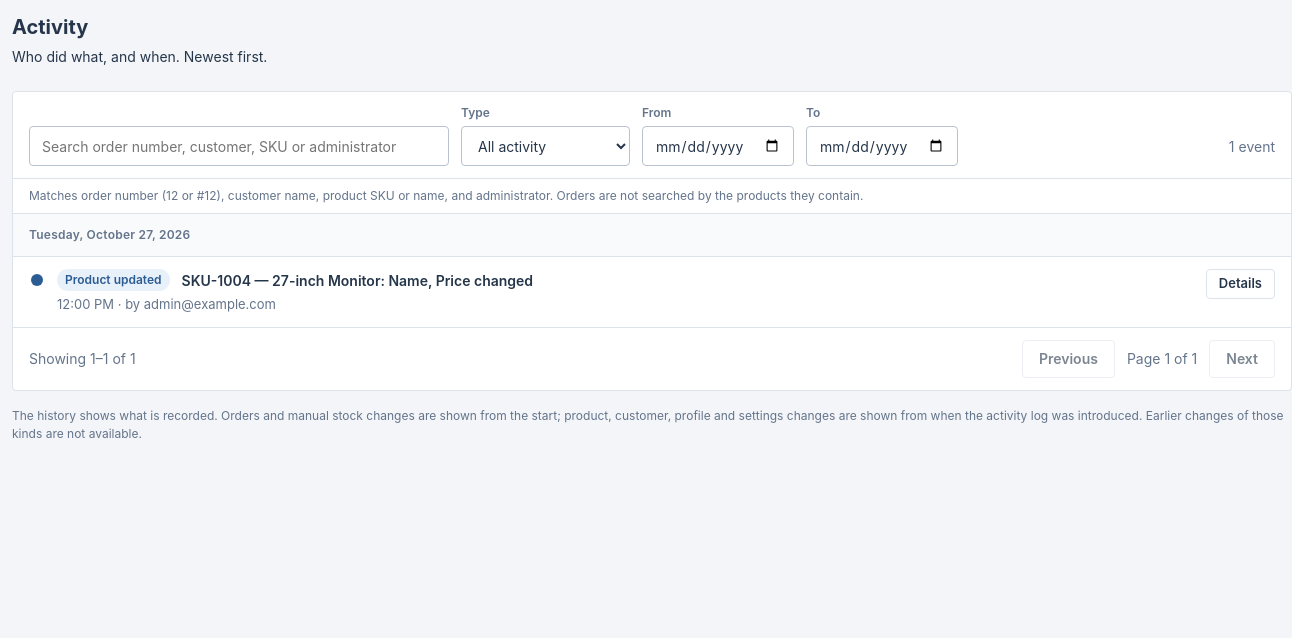
Test: event details › a product edit names the fields, shows the price change, and says SKU and name text is not kept
Click the button with aria-label "Show details". click: (1240, 284)
box: [1206,269,1275,299]
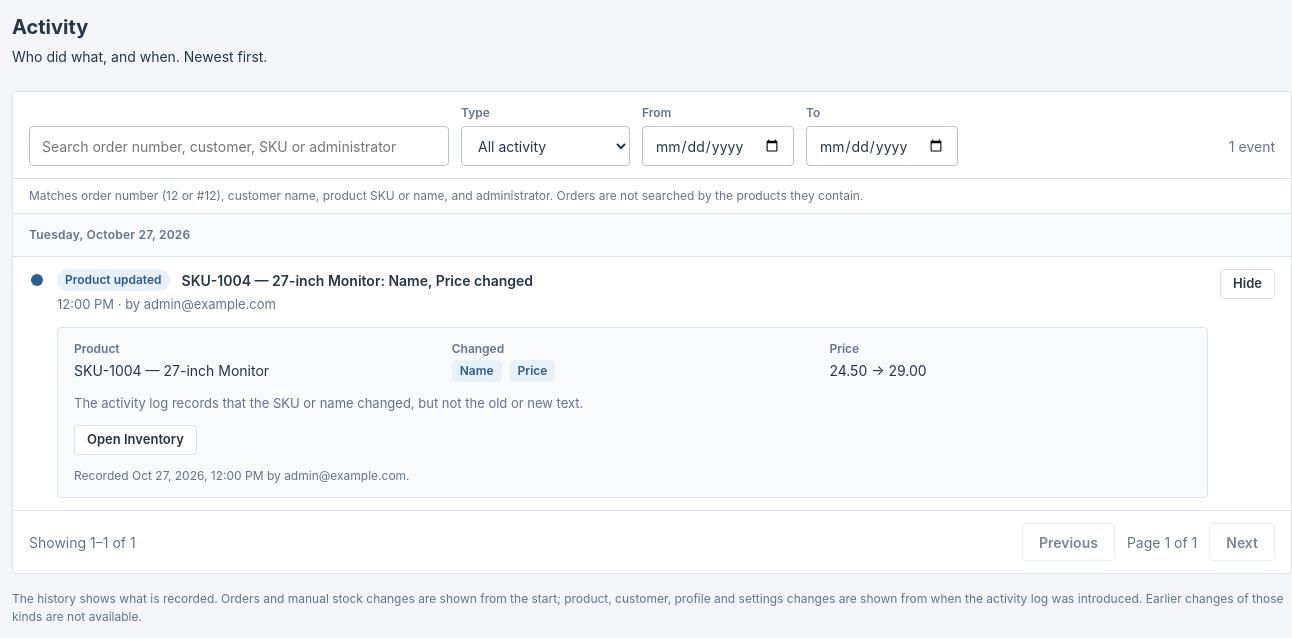
Check: the list items read "Name", "Price", in this order, box [452,360,502,382]; [510,360,555,382]
Check: the text "24.50 → 29.00" is shown, box [829,362,927,378]
Check: the text "records that the SKU or name changed, but not the old or new text" is shown, box [74,394,583,410]
